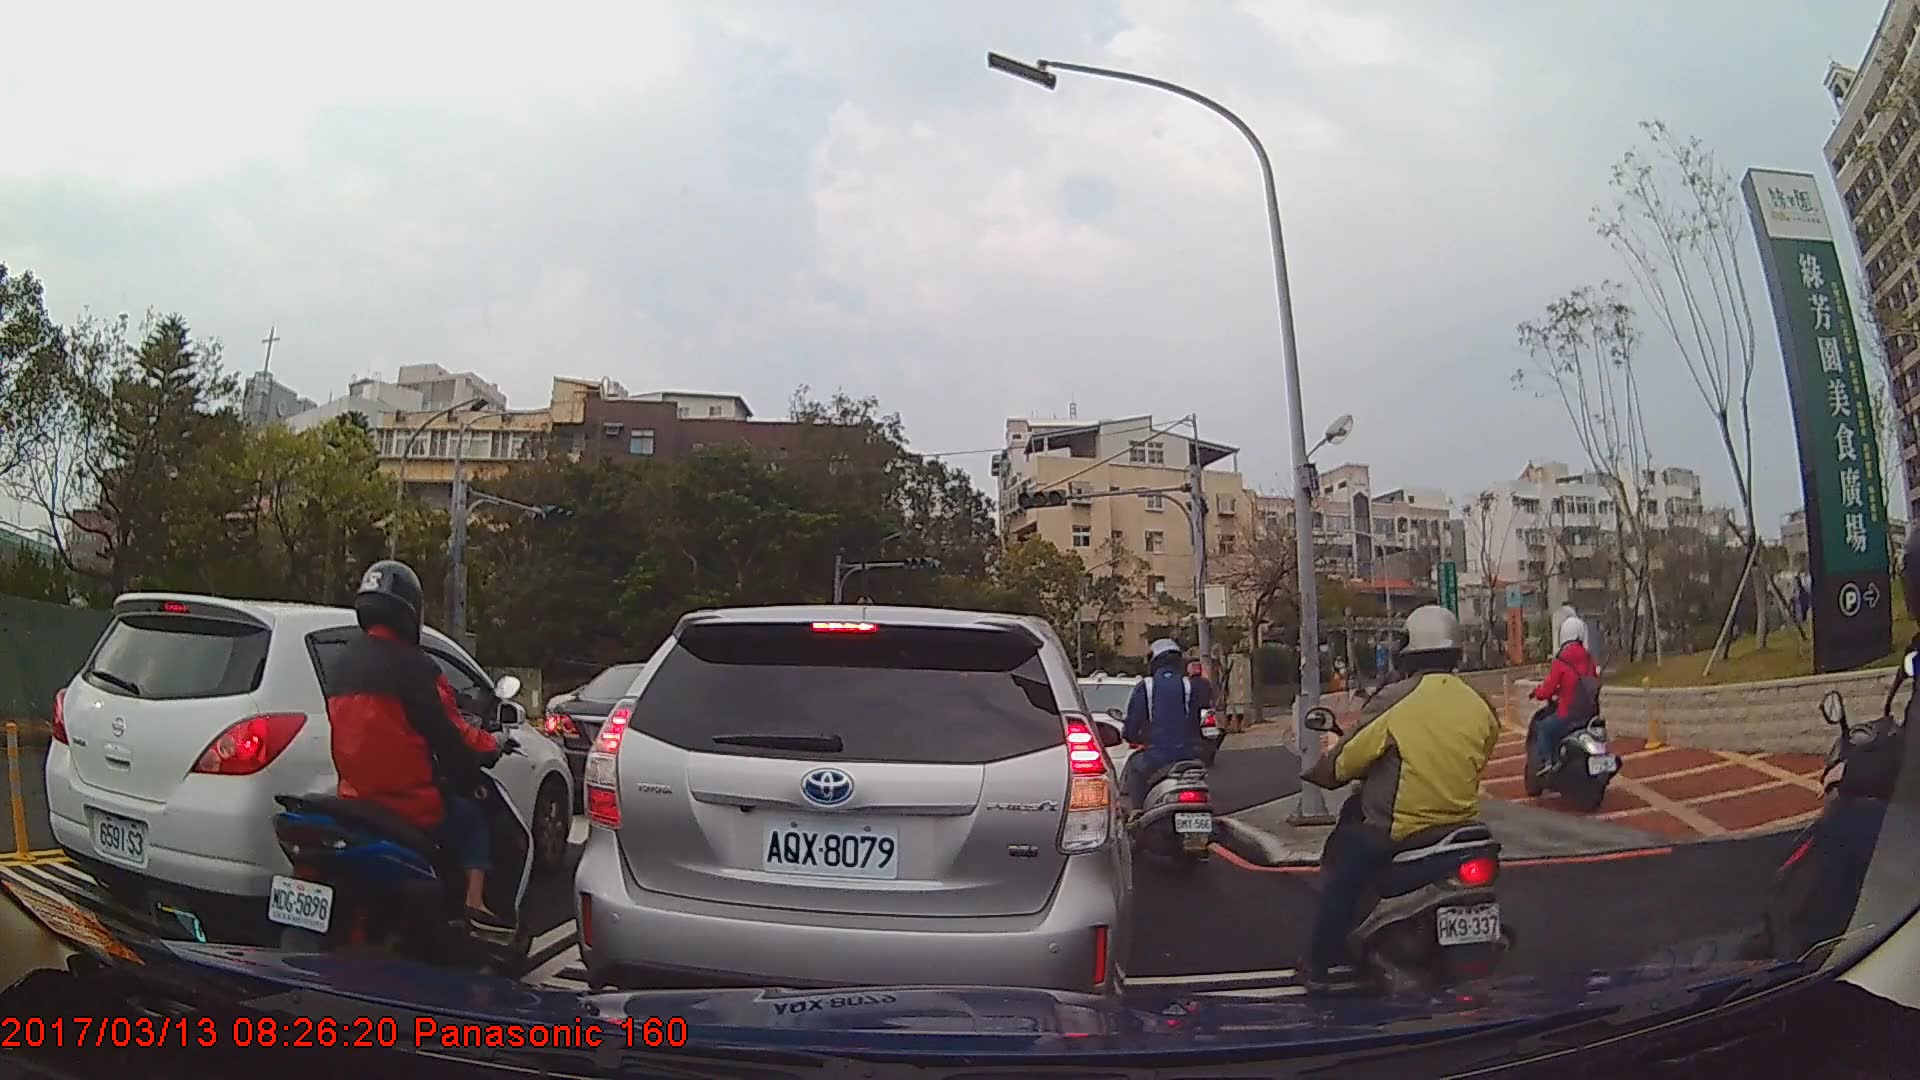pedestrian: (1779, 567, 1812, 640)
rider: (270, 554, 537, 992), (1745, 516, 1920, 1035), (1297, 603, 1516, 1002), (1117, 640, 1223, 874), (1525, 615, 1618, 812), (1171, 661, 1226, 770)
vehicle: (572, 601, 1135, 1021), (46, 591, 573, 942)
